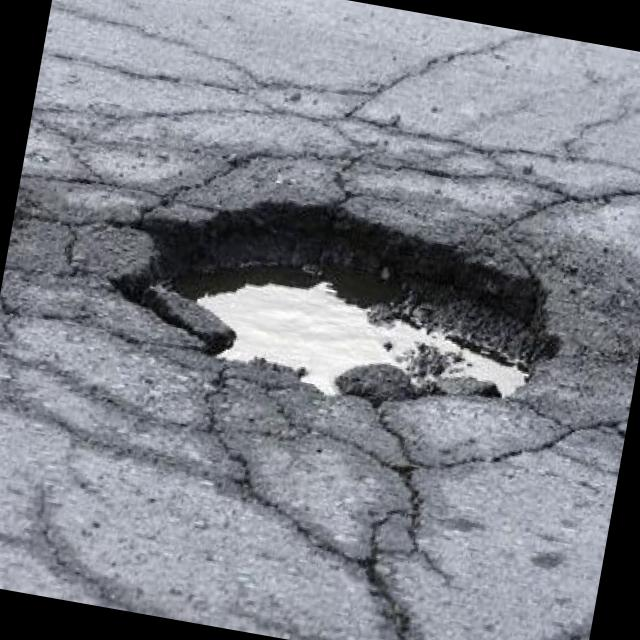Lubang: (108, 200, 560, 373), (404, 342, 500, 395)
